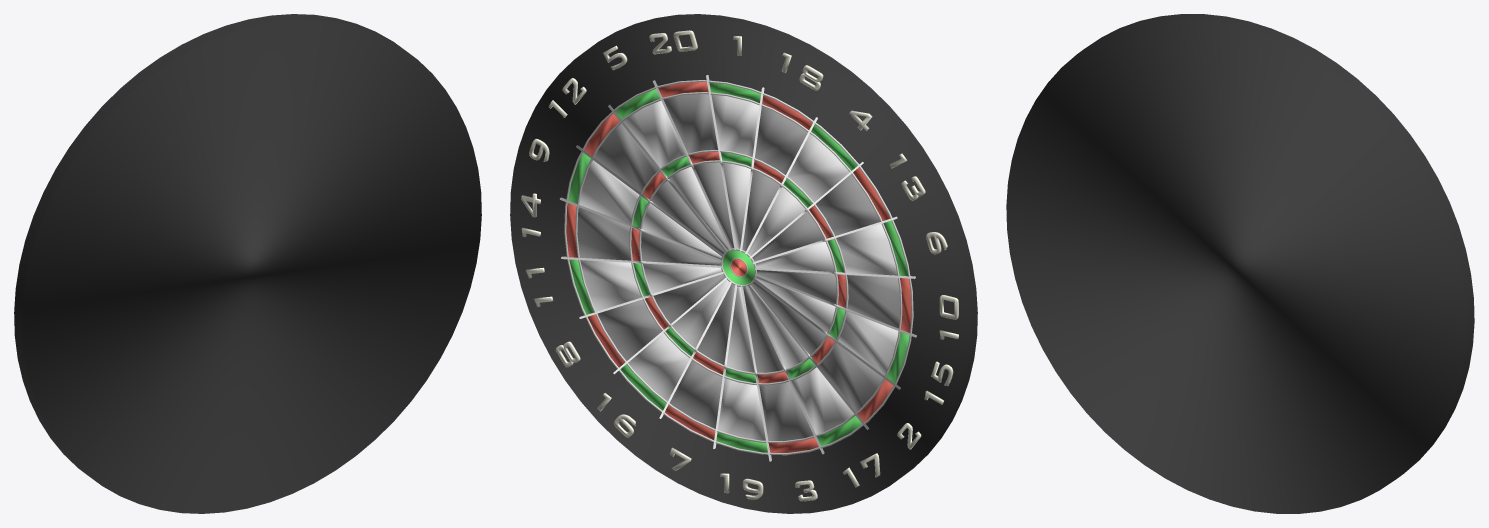
Rendered from tablero.fbx.
The picture shows the model from 3 angles, left to right: view 1: azimuth 30°, elevation 25°; view 2: azimuth 150°, elevation 25°; view 3: azimuth 330°, elevation 25°; orthographic projection.
Parts seen in each view (by area): view 1: dart_tarcza_obj; view 2: dart_tarcza_obj; view 3: dart_tarcza_obj.
Boxes of the visible parts, left/top/right/bottom form: dart_tarcza_obj: left=14, top=14, right=481, bottom=513; dart_tarcza_obj: left=510, top=14, right=977, bottom=513; dart_tarcza_obj: left=1006, top=14, right=1474, bottom=513.
Bounding box in the file's own units: 46.38 × 46.38 × 1.73.
